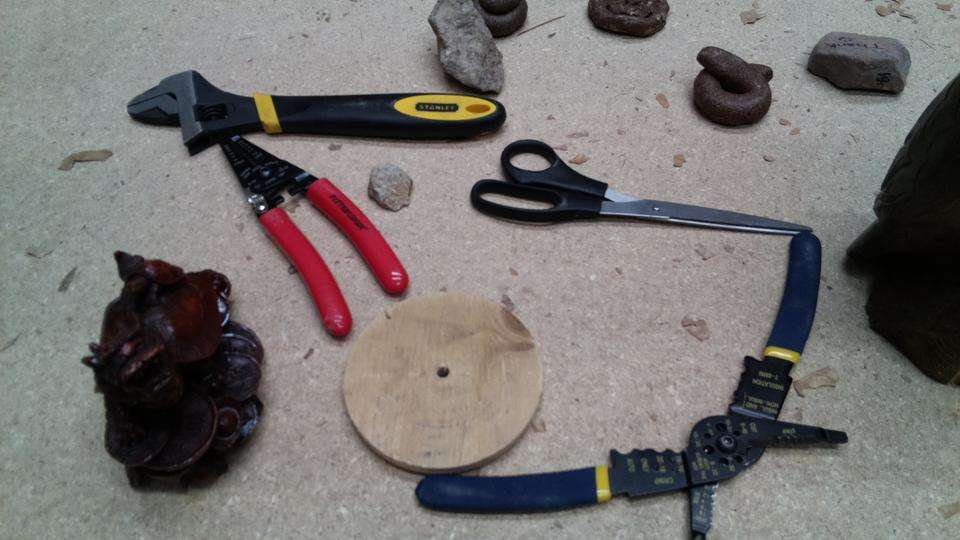poop: (690, 43, 777, 131), (585, 1, 672, 40), (471, 1, 529, 39)
